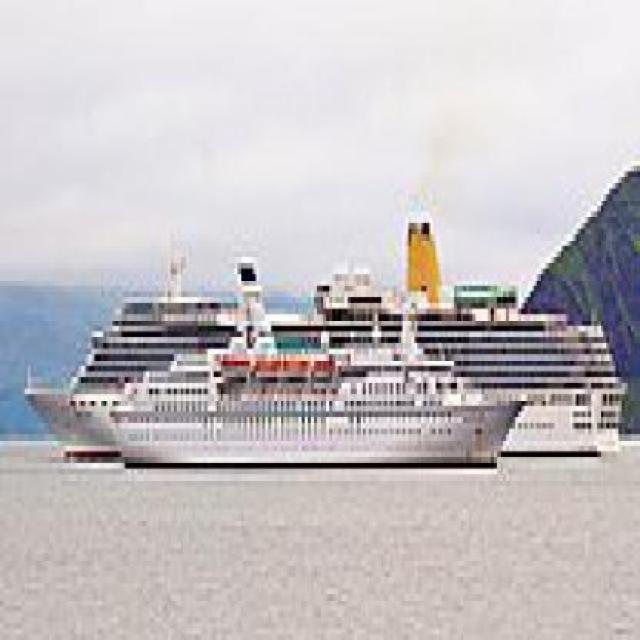cruise: (110, 327, 532, 487)
